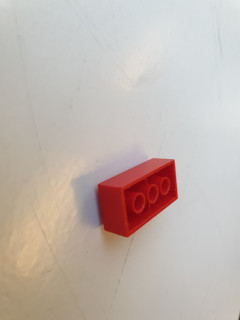2x4 red: (95, 157, 180, 237)
